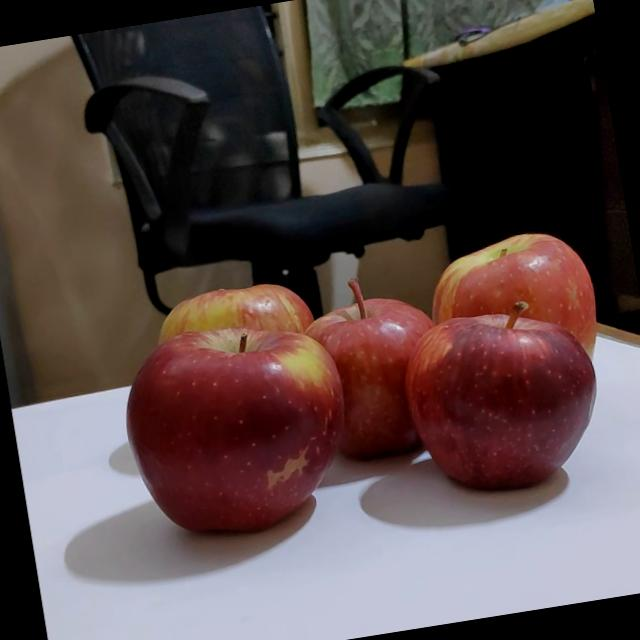apple: (114, 306, 372, 551), (402, 288, 624, 501), (295, 262, 474, 470), (422, 220, 614, 400), (144, 270, 333, 420)
